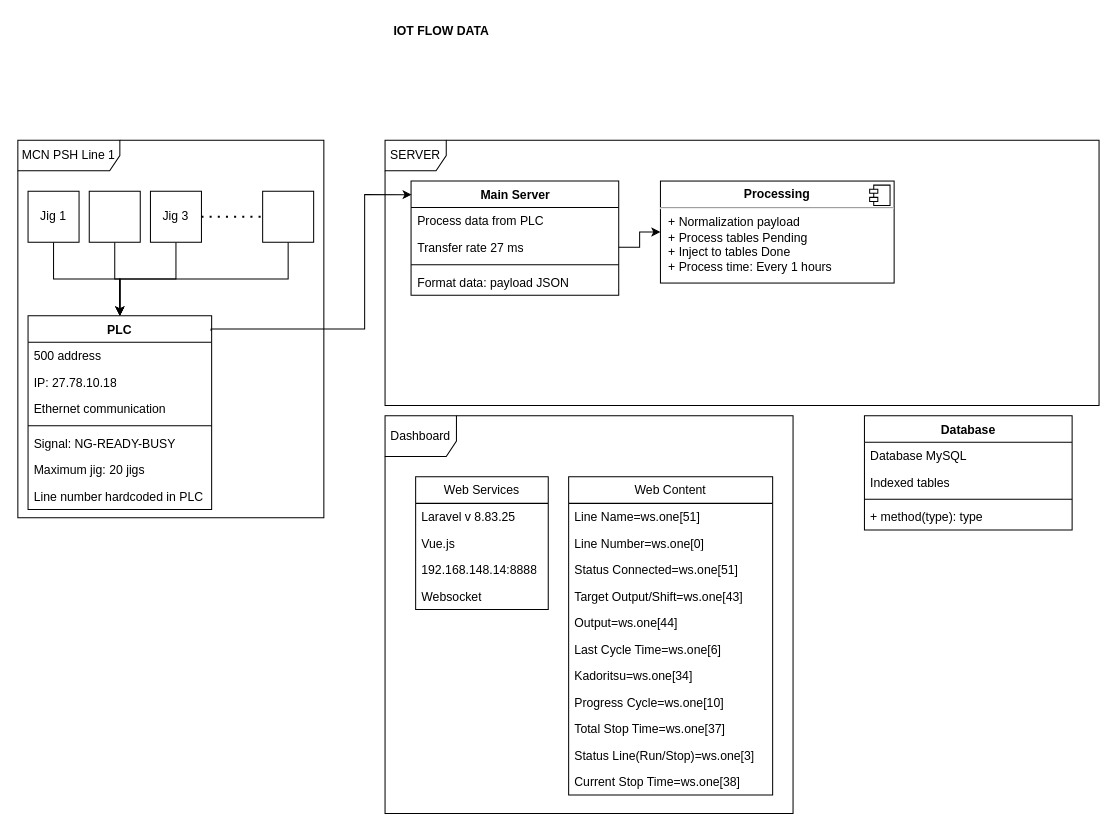
Image size: 1117x831. Some labels were removed from this diagram. Here are the shapes that lost their labels. From the top down, the centre of each, then its label:
At pixel 114 216: "Jig 2".
At pixel 288 216: "Jig n".
